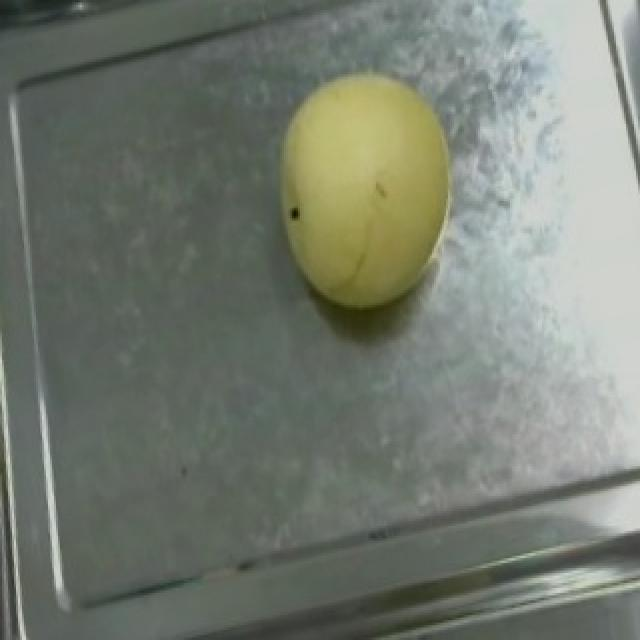Fruit: (244, 45, 480, 332)
